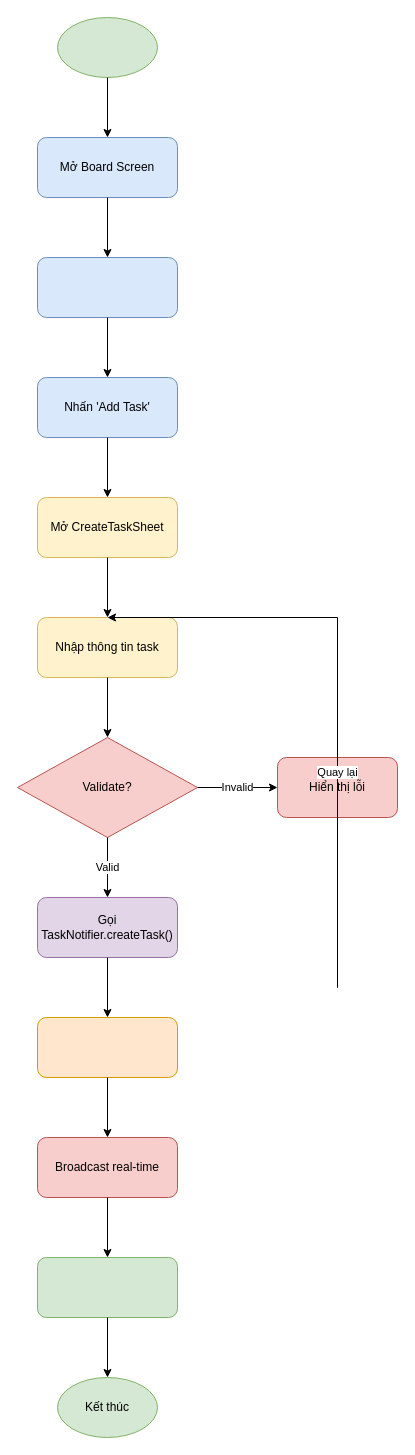
The diagram is 415 pixels wide and 1455 high, and some of its shapes have lost their labels. The centre of each missing label's shape, as x and y in pixels:
"Bắt đầu" goes at (107,47).
"Chọn cột" goes at (107,287).
"Cập nhật UI" goes at (107,1287).
"Lưu vào Supabase" goes at (107,1047).
